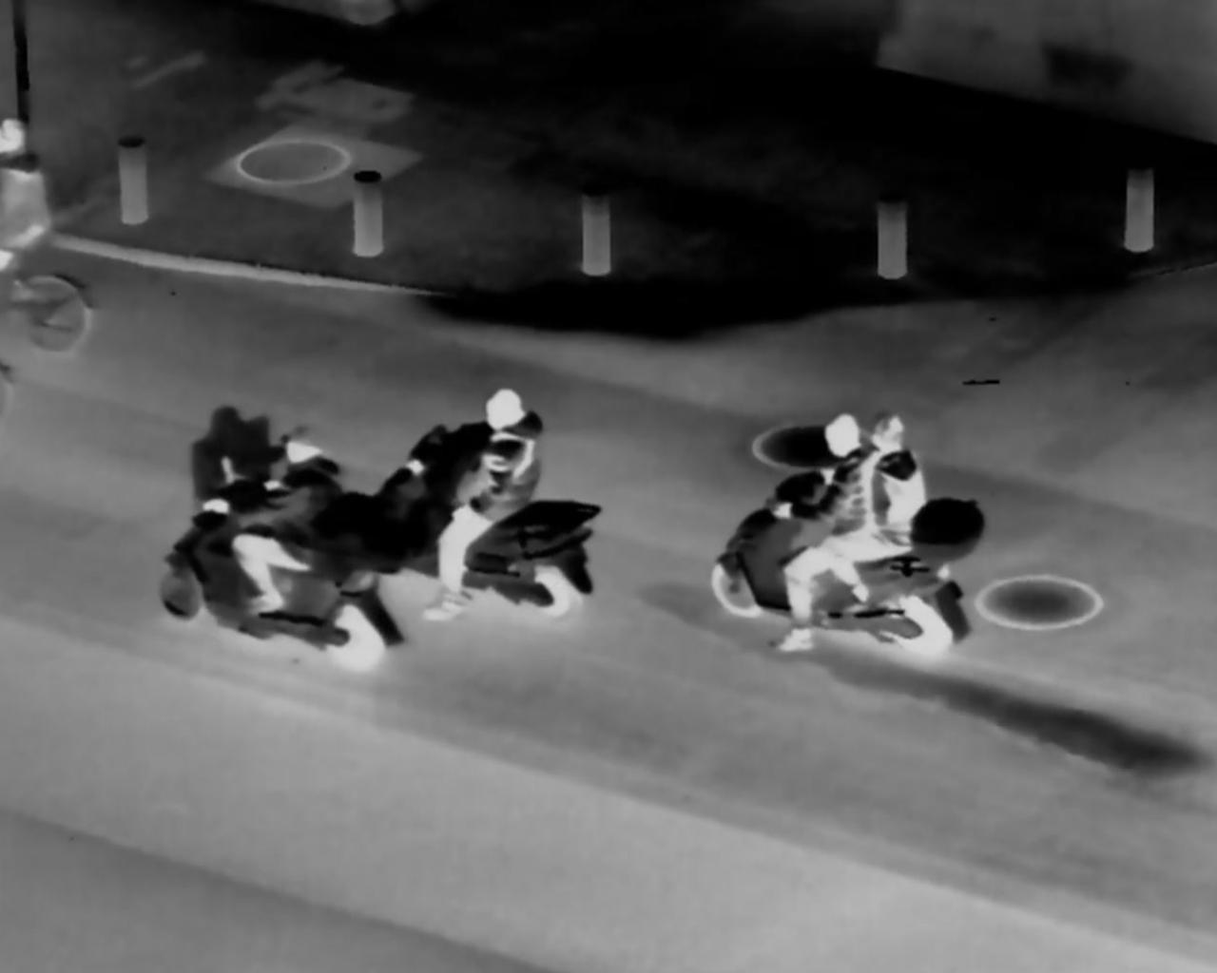person: (418, 379, 549, 621), (214, 430, 357, 615), (766, 411, 868, 643), (830, 410, 920, 600)
